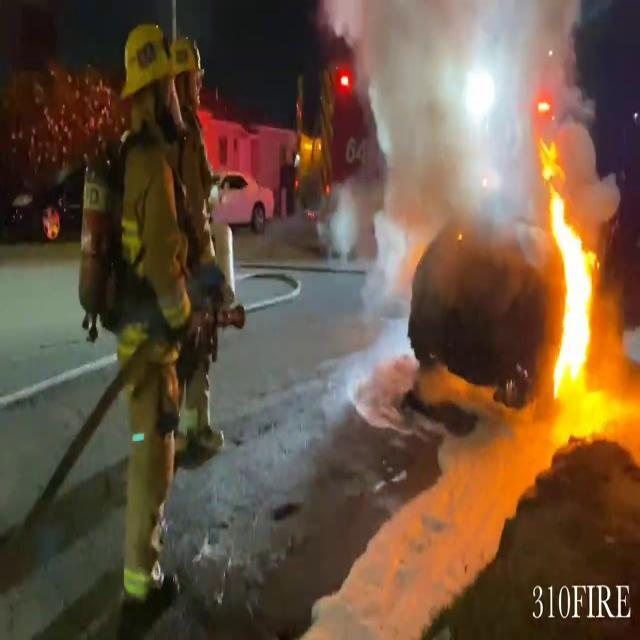Fire: (530, 117, 604, 402)
Smoke: (341, 0, 613, 251)
